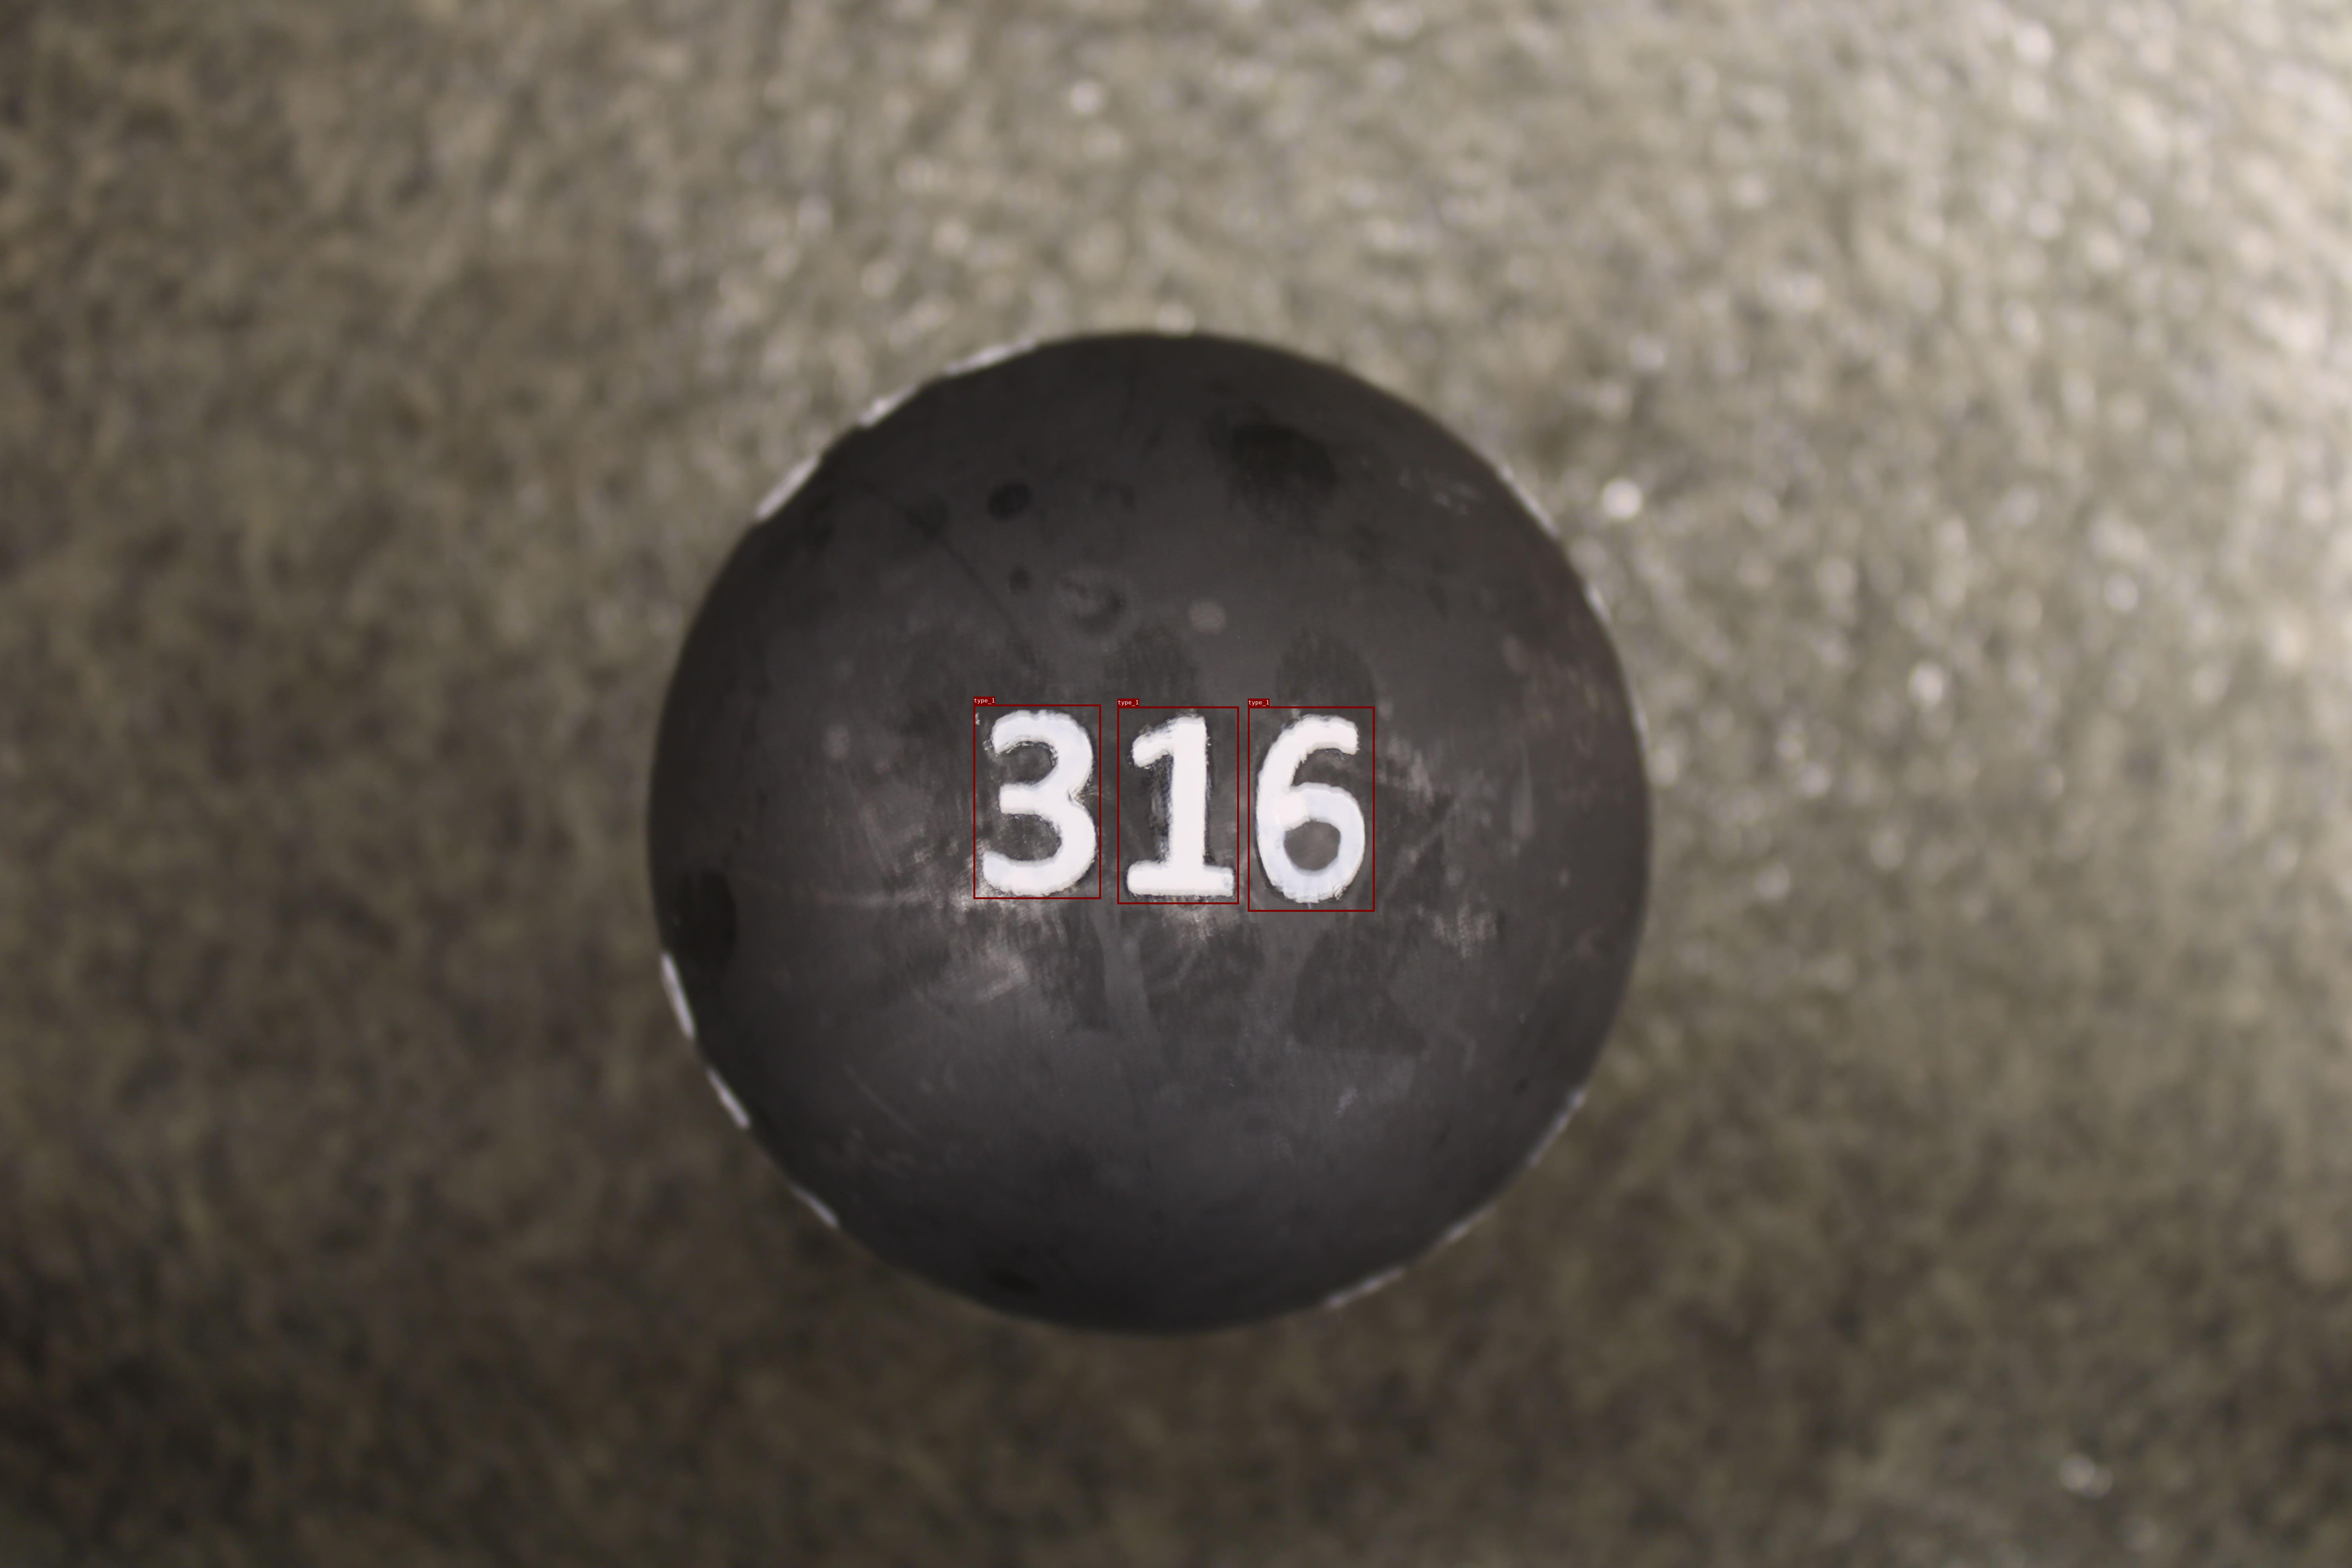type_1: (1248, 707, 1374, 912), (973, 705, 1101, 900), (1116, 707, 1239, 905)
